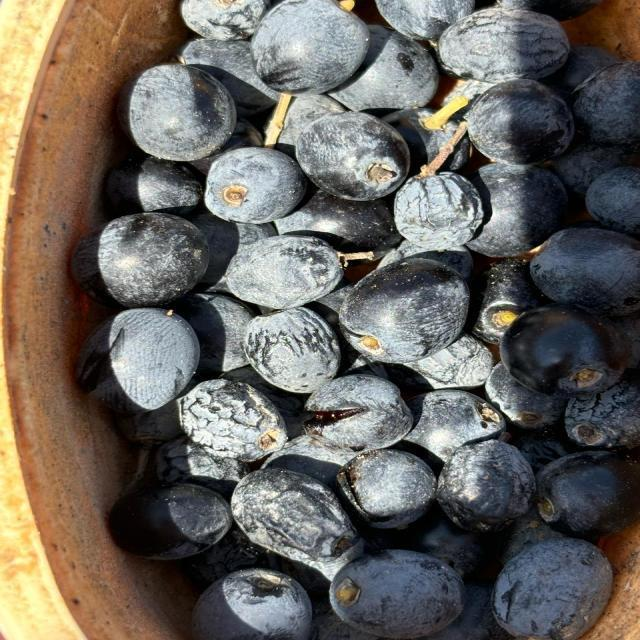Anthracnose: (304, 374, 412, 452), (336, 448, 436, 528)
